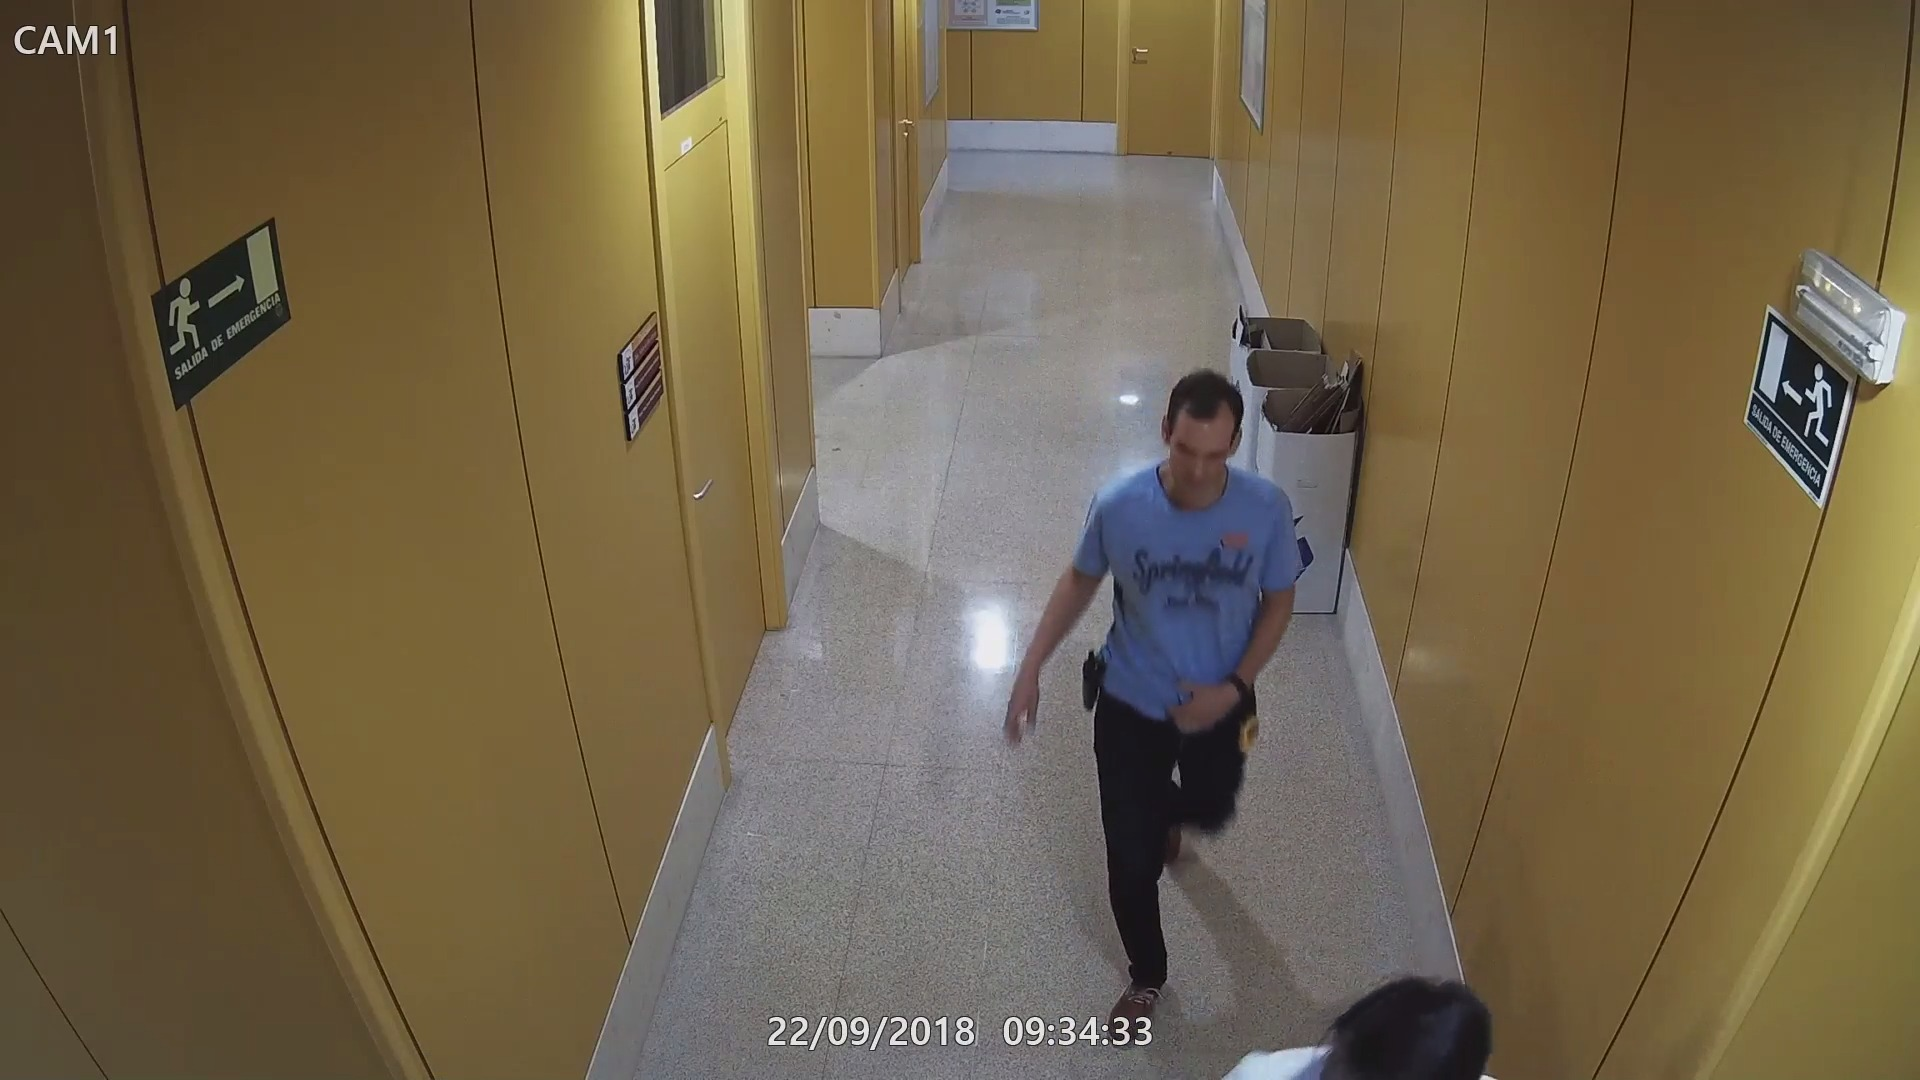Handgun: (1076, 647, 1102, 716)
